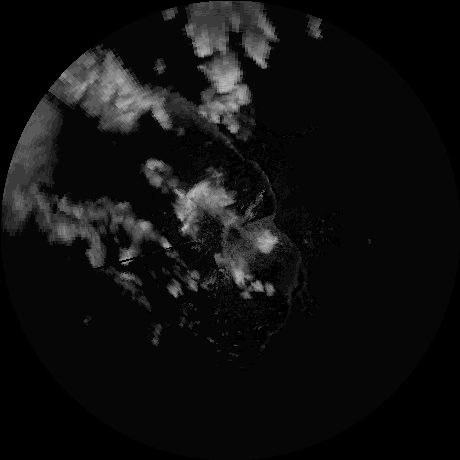frontgust: (244, 153, 280, 211), (287, 239, 306, 303)
